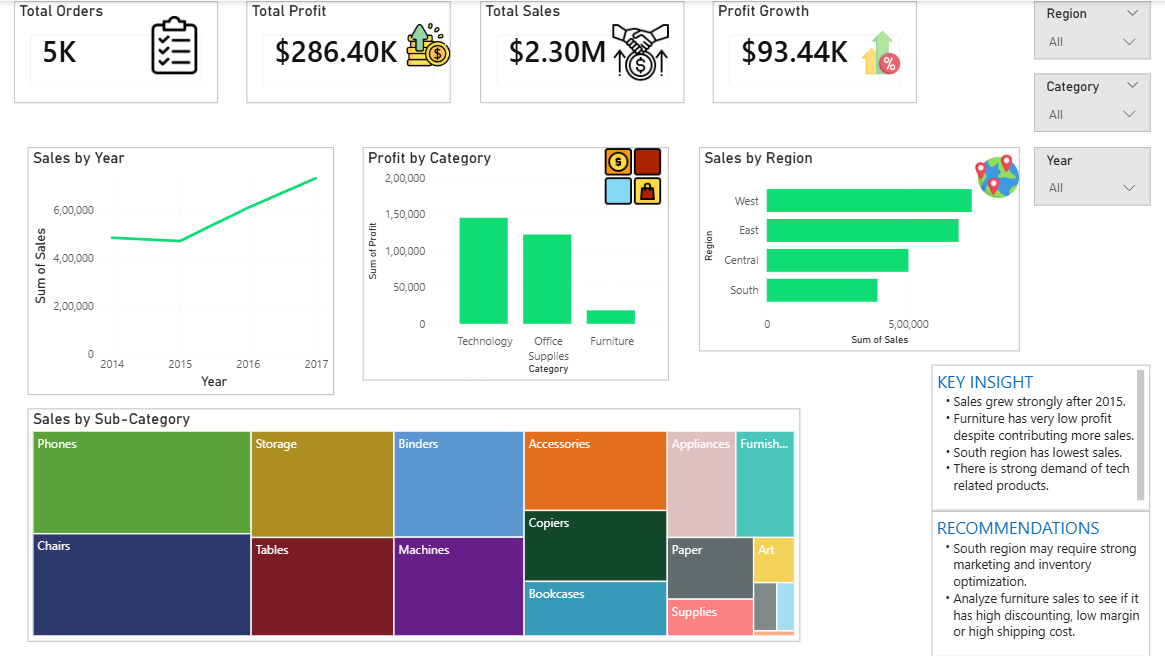

The page's visual inventory and layout, read from the dashboard file:
{"tool":"powerbi","page":{"name":"Page 1","canvas":[1280,720],"ordinal":0},"visuals":[{"type":"cardVisual","title":"Total Orders","fields":{"Data":["cleaned_sales_data.Total Orders"]},"box":[16,0,224,112],"z":0},{"type":"cardVisual","title":"Total Profit","fields":{"Data":["cleaned_sales_data.Total Profit"]},"box":[272,0,224,112],"z":1000},{"type":"cardVisual","title":"Total Sales","fields":{"Data":["cleaned_sales_data.Total Sales"]},"box":[528,0,224,112],"z":2000},{"type":"lineChart","title":"Sales by Year","fields":{"Category":["cleaned_sales_data.Order Date.Variation.Date Hierarchy.Year","cleaned_sales_data.Order Date.Variation.Date Hierarchy.Quarter","cleaned_sales_data.Order Date.Variation.Date Hierarchy.Month","cleaned_sales_data.Order Date.Variation.Date Hierarchy.Day"],"Y":["Sum(cleaned_sales_data.Sales)"]},"box":[32,160,336,272],"z":3000},{"type":"barChart","title":"Sales by Region","fields":{"Category":["cleaned_sales_data.Region"],"Y":["Sum(cleaned_sales_data.Sales)"]},"box":[768,160,352,224],"z":4000},{"type":"columnChart","title":"Profit by Category","fields":{"Category":["cleaned_sales_data.Category"],"Y":["Sum(cleaned_sales_data.Profit)"]},"box":[400,160,336,256],"z":5000},{"type":"treemap","title":"Sales by Sub-Category","fields":{"Values":["Sum(cleaned_sales_data.Sales)"],"Group":["cleaned_sales_data.Sub-Category"]},"box":[32,448,848,256],"z":6000},{"type":"slicer","title":"Filter by Region","fields":{"Values":["cleaned_sales_data.Region"]},"box":[1136,0,128,64],"z":7000},{"type":"slicer","title":"Filter by Category","fields":{"Values":["cleaned_sales_data.Category"]},"box":[1136,80,128,64],"z":8000},{"type":"slicer","title":"Filter by Year","fields":{"Values":["cleaned_sales_data.Year"]},"box":[1136,160,128,64],"z":9000},{"type":"image","box":[160,16,64,64],"z":10000},{"type":"image","box":[448,0,48,96],"z":11000},{"type":"image","box":[672,16,64,80],"z":12000},{"type":"image","box":[1072,160,48,64],"z":13000},{"type":"image","box":[656,160,80,64],"z":14000},{"type":"textbox","box":[1024,400,240,160],"z":15000},{"type":"textbox","box":[1024,560,240,160],"z":16000},{"type":"cardVisual","title":"Profit Growth","fields":{"Data":["cleaned_sales_data.Profit Growth"]},"box":[784,0,224,112],"z":17000},{"type":"image","box":[944,16,48,80],"z":18000}]}

Visuals, with their boxes in screenshot pixels (x1, y1, x2, y2), scaled from the page's 1280x720 canvas onto the 1165x656 screenshot:
"Total Orders" cardVisual: crop(15, 0, 218, 102)
"Total Profit" cardVisual: crop(248, 0, 451, 102)
"Total Sales" cardVisual: crop(481, 0, 684, 102)
"Sales by Year" lineChart: crop(29, 146, 335, 394)
"Sales by Region" barChart: crop(699, 146, 1019, 350)
"Profit by Category" columnChart: crop(364, 146, 670, 379)
"Sales by Sub-Category" treemap: crop(29, 408, 801, 641)
"Filter by Region" slicer: crop(1034, 0, 1150, 58)
"Filter by Category" slicer: crop(1034, 73, 1150, 131)
"Filter by Year" slicer: crop(1034, 146, 1150, 204)
image: crop(146, 15, 204, 73)
image: crop(408, 0, 451, 87)
image: crop(612, 15, 670, 87)
image: crop(976, 146, 1019, 204)
image: crop(597, 146, 670, 204)
textbox: crop(932, 364, 1150, 510)
textbox: crop(932, 510, 1150, 655)
"Profit Growth" cardVisual: crop(714, 0, 917, 102)
image: crop(859, 15, 903, 87)
